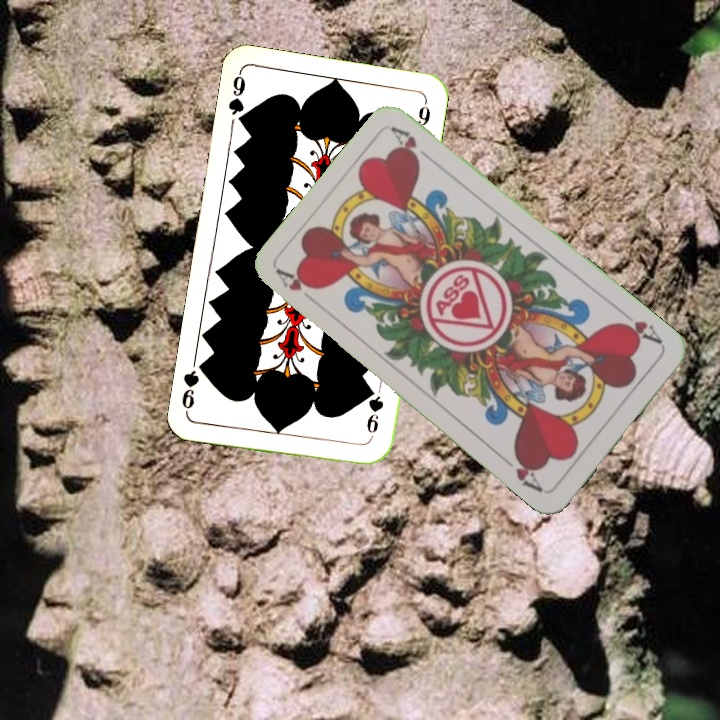G9: (224, 68, 249, 129), (362, 384, 387, 443)
HA: (273, 265, 323, 309), (612, 316, 665, 347)
